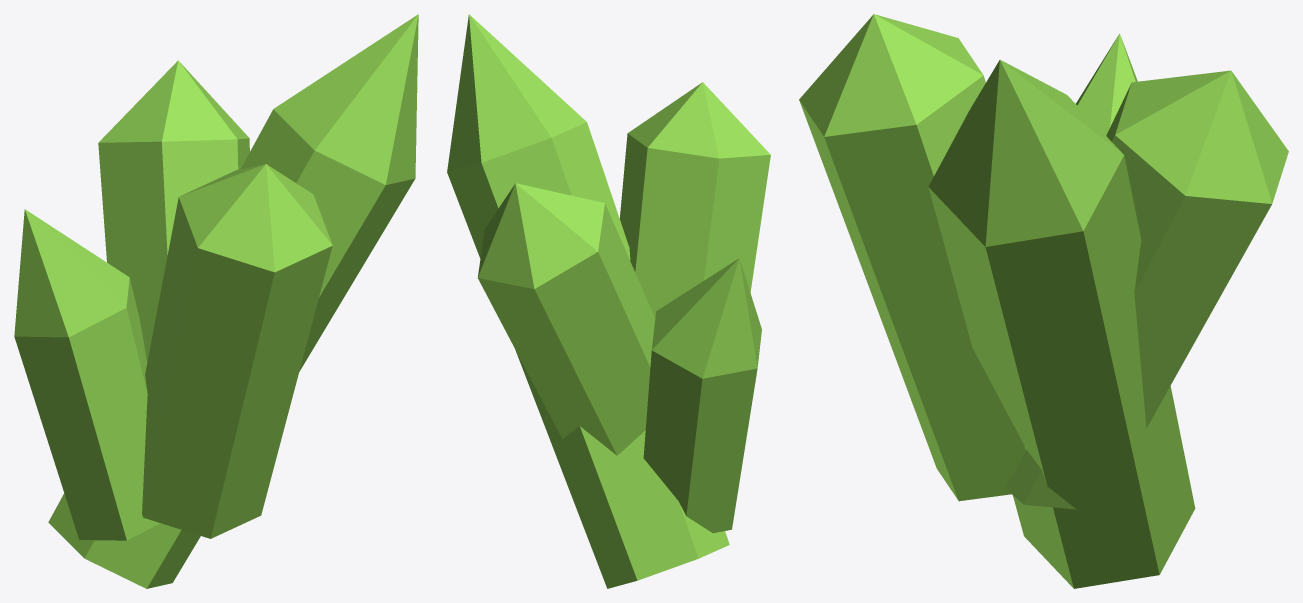
File: Crystal Cluster 1.fbx
The picture shows the model from 3 angles, left to right: view 1: azimuth 30°, elevation 25°; view 2: azimuth 150°, elevation 25°; view 3: azimuth 270°, elevation 25°; orthographic projection. The views are drawn at different scales.
Parts seen in each view (by area): view 1: Crystal_Cluster_1; view 2: Crystal_Cluster_1; view 3: Crystal_Cluster_1.
Part boxes in pixels (x1,y1,x2,y2): Crystal_Cluster_1: (14,14,418,588); Crystal_Cluster_1: (447,14,770,588); Crystal_Cluster_1: (799,14,1288,588).
Bounding box in the file's own units: 92.34 × 132 × 89.11.
1 material, 1 textured.
